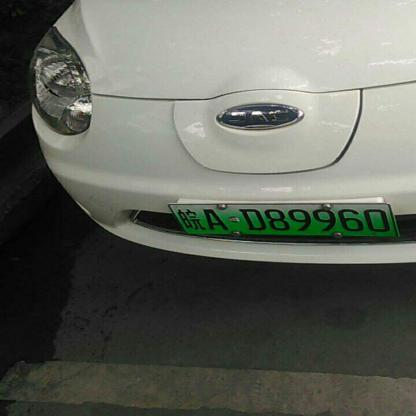lp: (169, 201, 400, 236)
